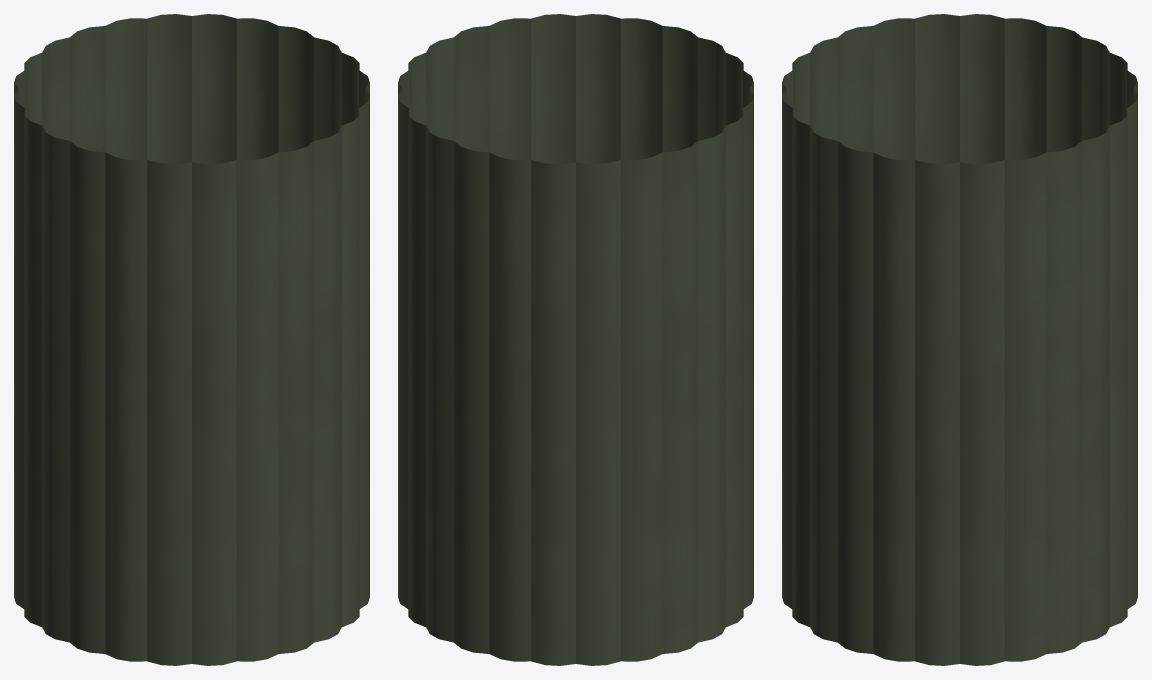
The model's file is airlock tube.obj.
The picture shows the model from 3 angles, left to right: view 1: azimuth 30°, elevation 25°; view 2: azimuth 150°, elevation 25°; view 3: azimuth 270°, elevation 25°; orthographic projection.
Parts seen in each view (by area): view 1: tube; view 2: tube; view 3: tube.
Part boxes in pixels (<box>): tube: <box>14,14,369,665</box>; tube: <box>398,14,753,665</box>; tube: <box>782,14,1137,665</box>.
Bounding box in the file's own units: 0.6427 × 1 × 0.6427.
